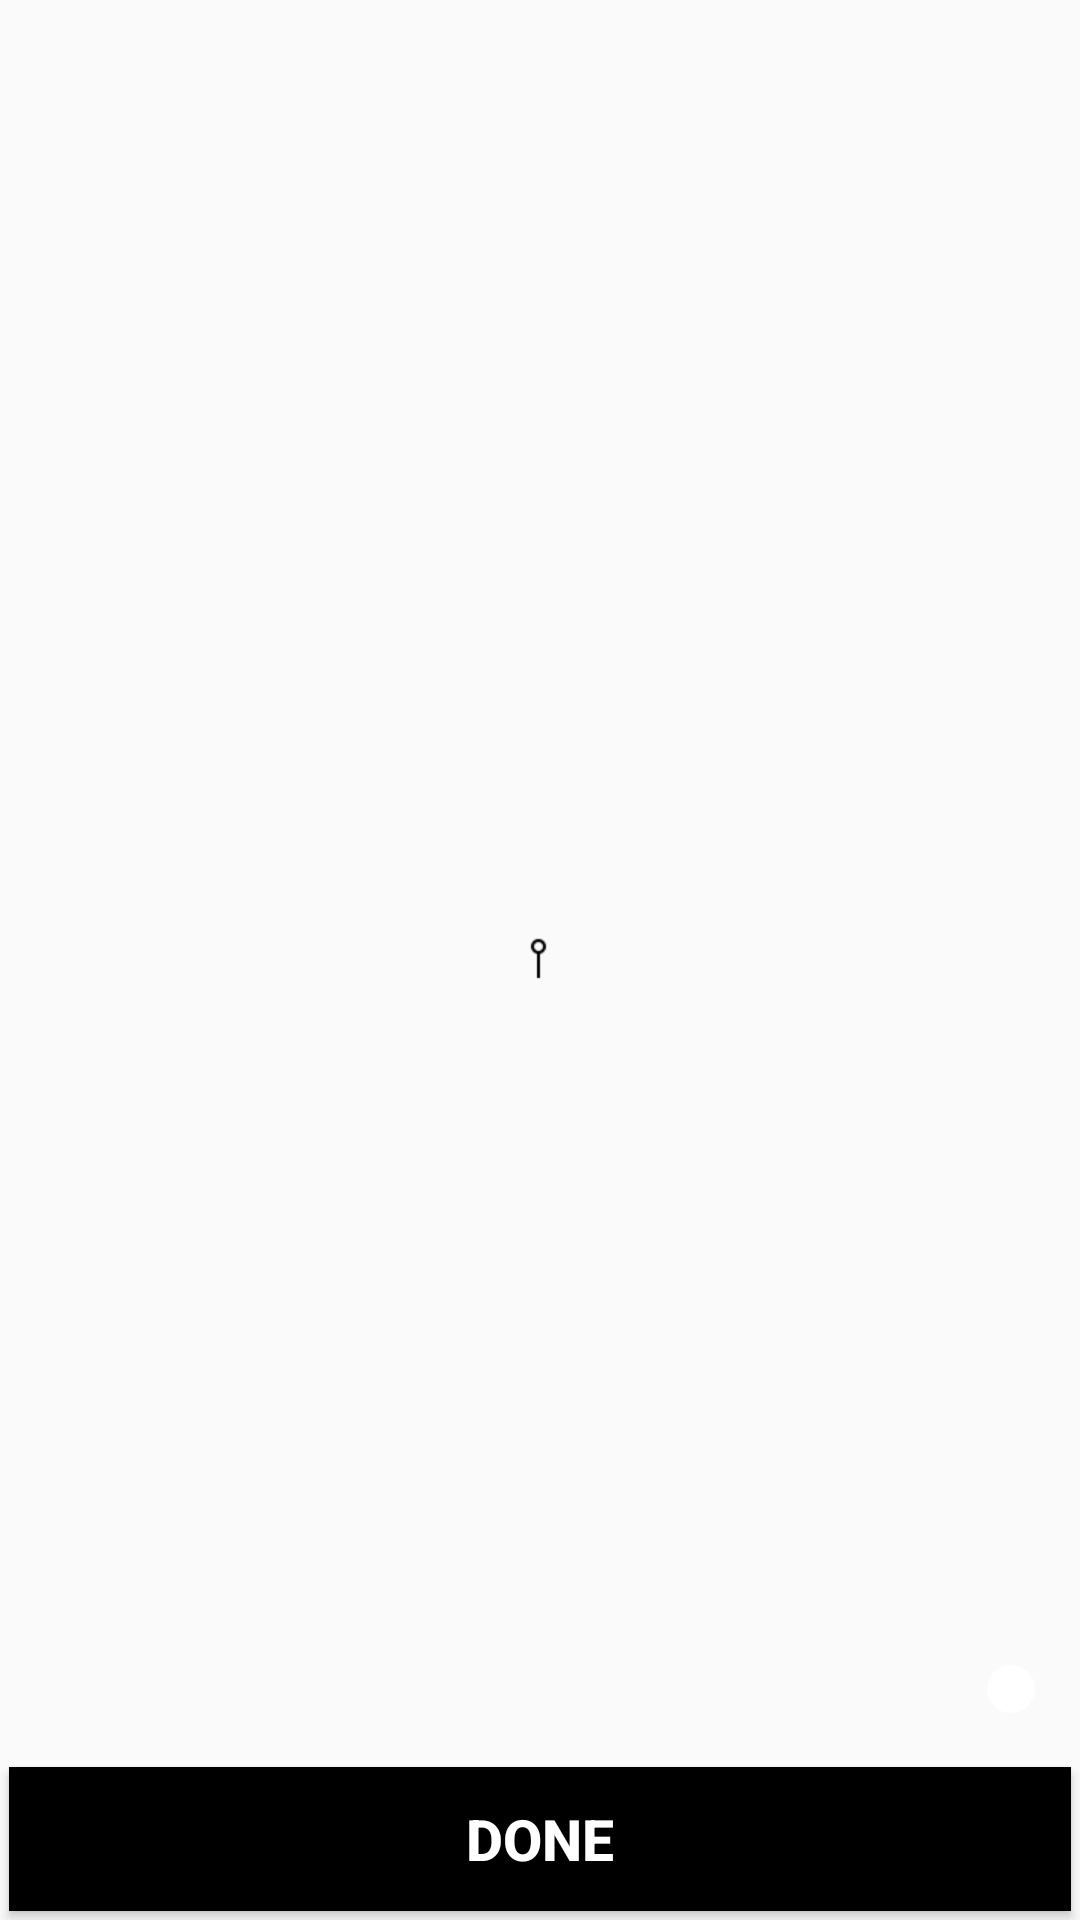

Named icons in this screenshot (1080*1920) and their bounding boxes, (x1, y1, x2, y2):
set location on map: (530, 938, 547, 979)
